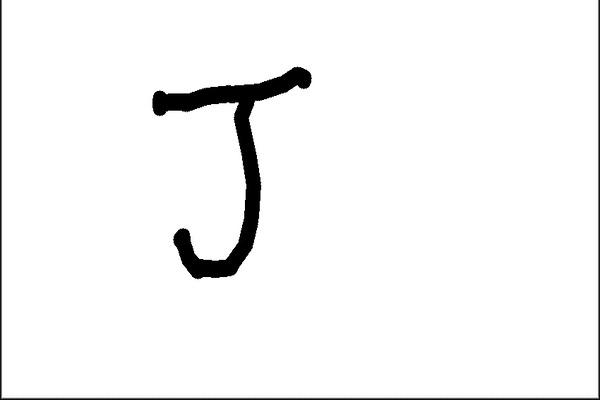J: (148, 62, 315, 277)
